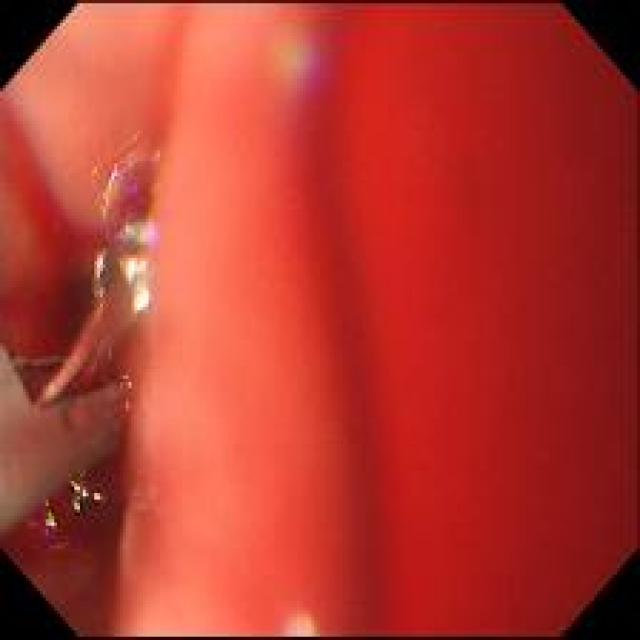color misalignment: (229, 4, 637, 632), (103, 155, 142, 233), (300, 48, 319, 90), (28, 512, 57, 539)
instrument: (1, 204, 155, 539)
specularity: (126, 257, 150, 312)
